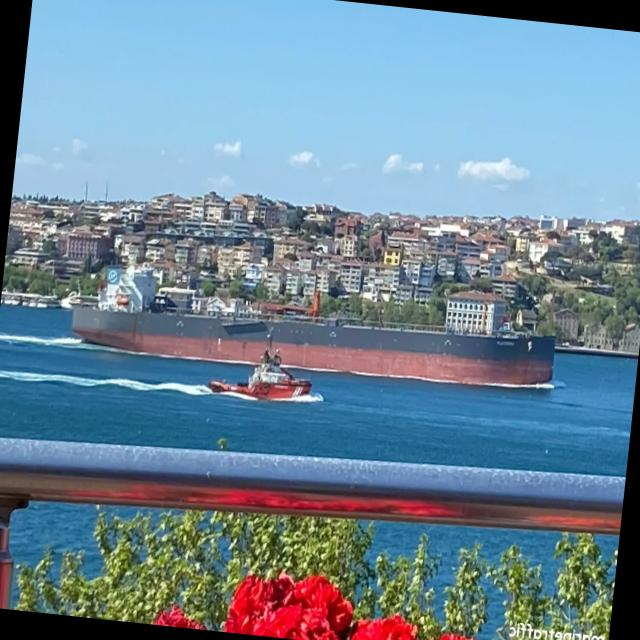Tanker: (72, 266, 555, 386)
Tug: (208, 345, 313, 401)
